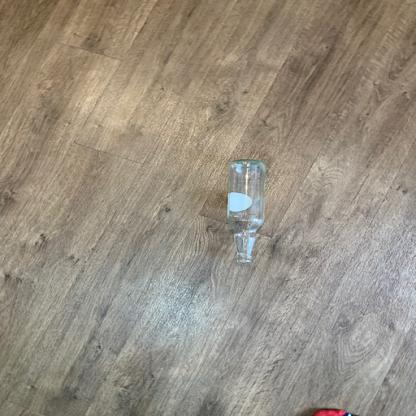trash: (223, 152, 265, 263)
